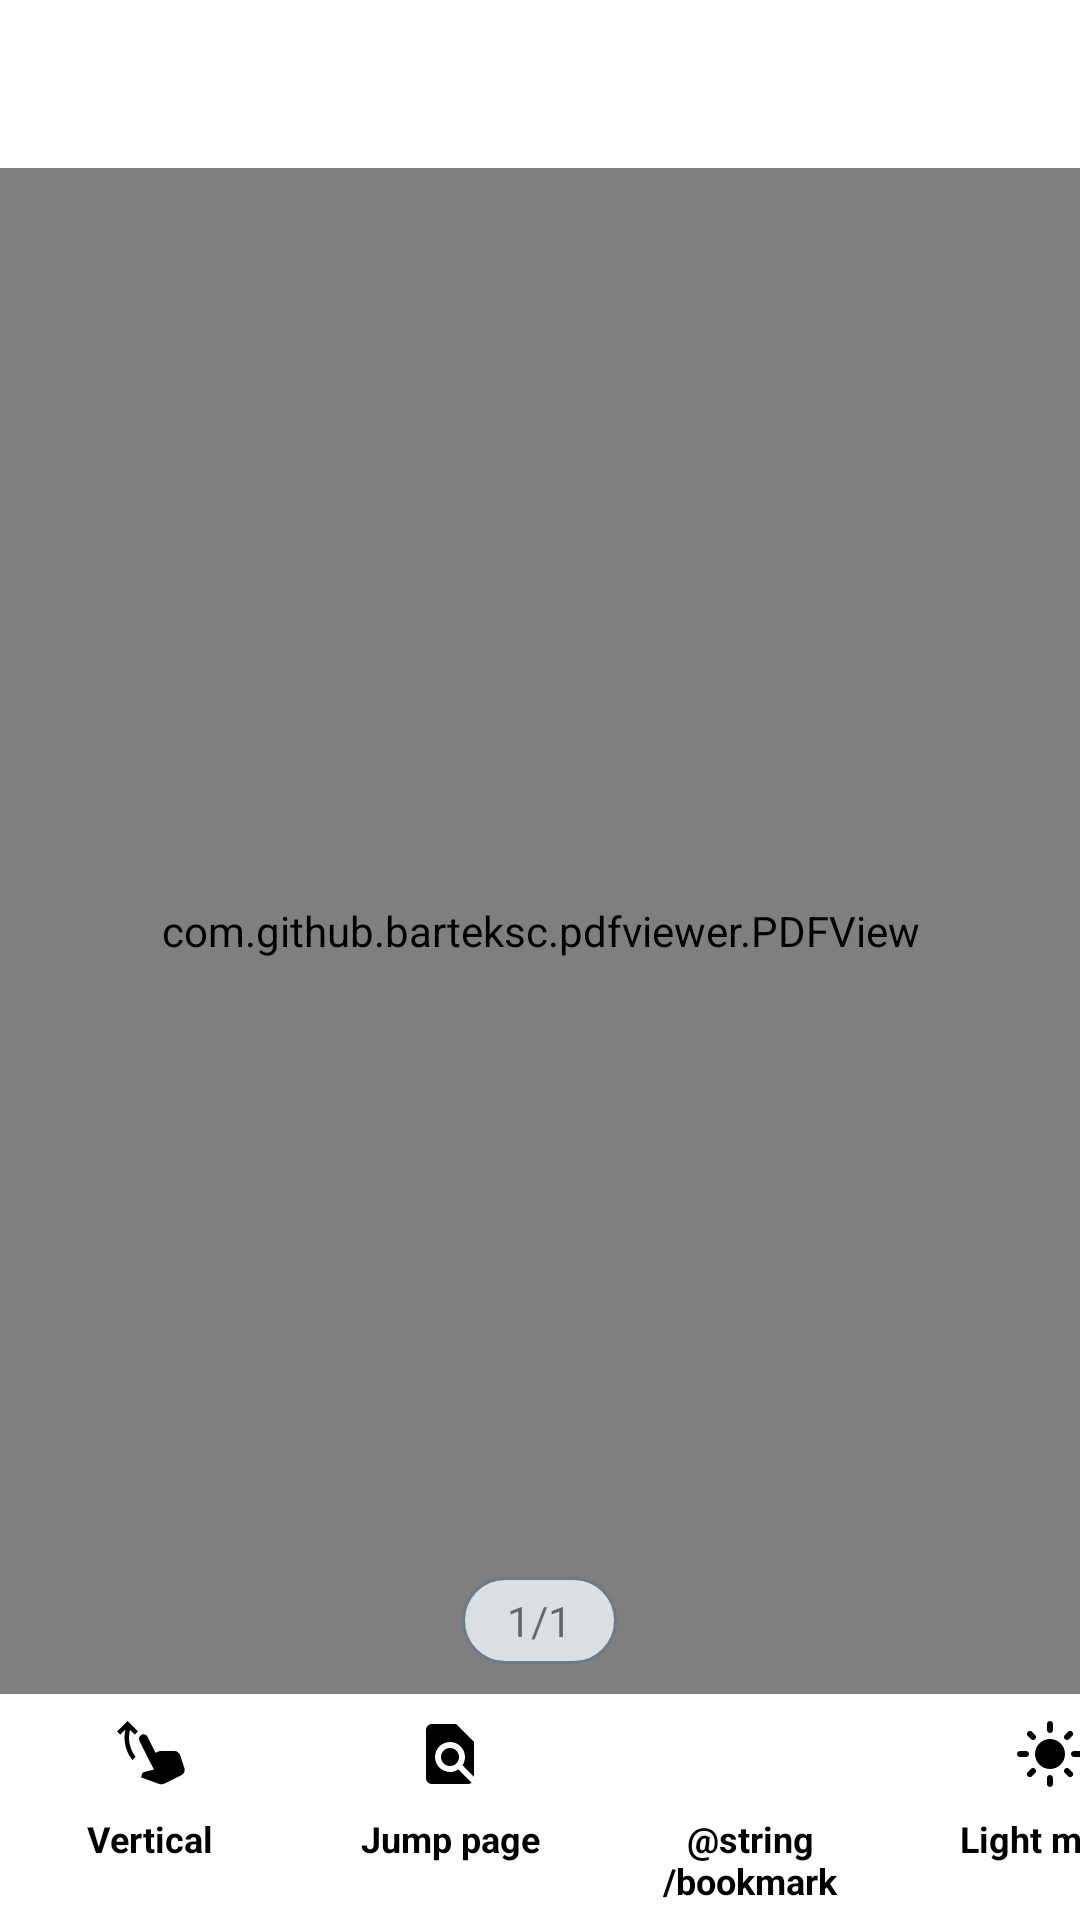

Icons on this 1080×1920 Android screen, each with the point to tap as point (x, y):
find in page: point (450, 1754)
swipe up: point (151, 1753)
